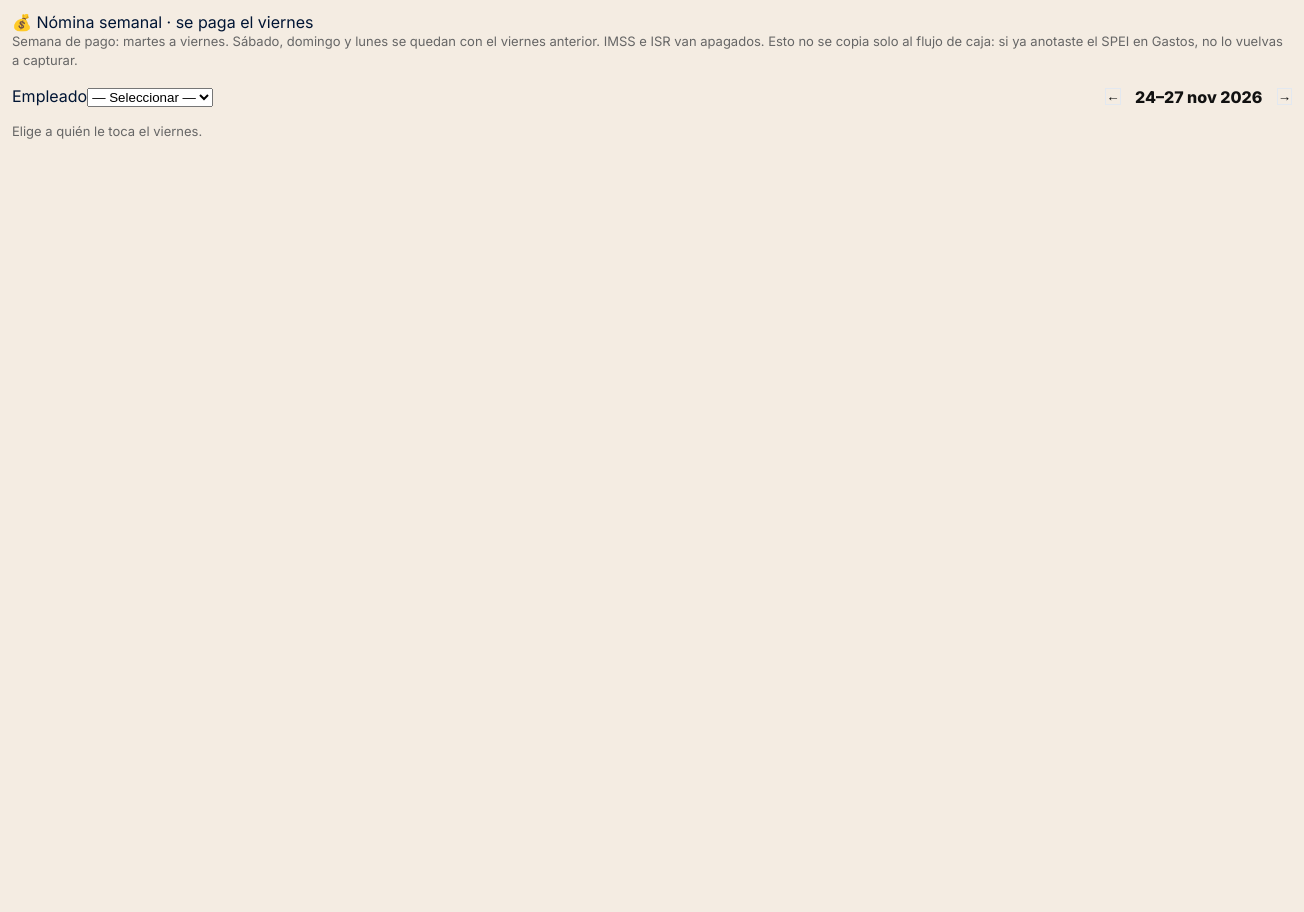
al elegir empleado carga la semana martes–viernes
Select "Erika" in the dropdown labelled "Empleado" at coordinates (150, 97), box [87,88,213,107]
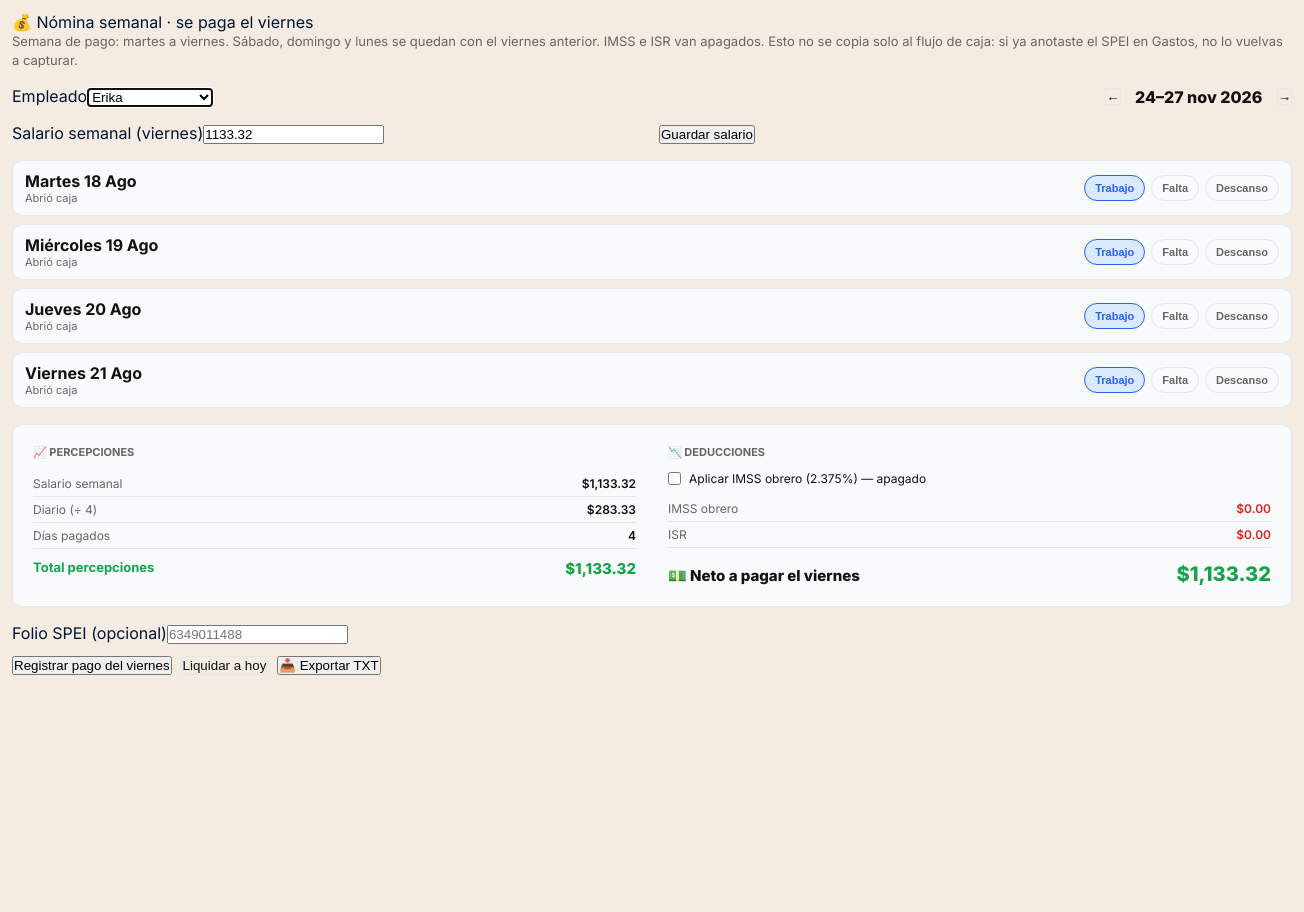
Now the text "💵 Neto a pagar el viernes" is shown, box [668,566,860,585]
Now the 1st text "$1,133.32" is shown, box [582,476,636,491]
Now the button "Registrar pago del viernes" is shown, box [12,656,172,675]
